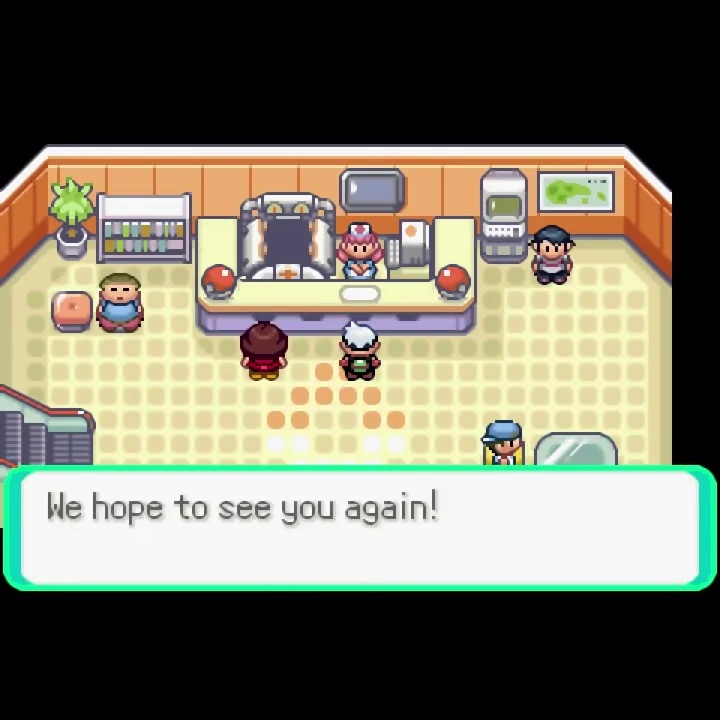agent: (337, 320, 383, 384)
npc: (238, 318, 292, 385), (526, 223, 578, 288), (94, 271, 146, 336), (335, 221, 384, 278), (478, 417, 523, 466)
